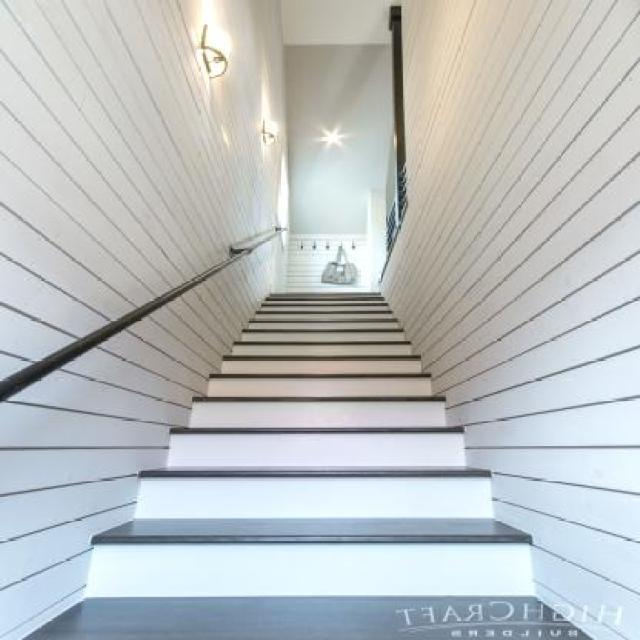stair: (42, 264, 546, 588)
